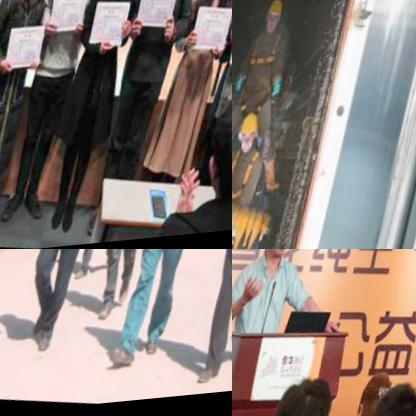head: (267, 368, 343, 416), (354, 368, 406, 416), (365, 376, 416, 416)
helmet: (260, 0, 290, 47), (237, 111, 266, 155)
